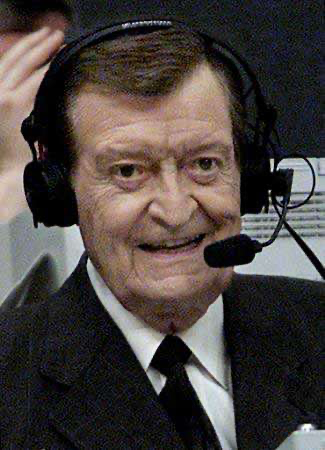Face: (64, 105, 254, 320)
